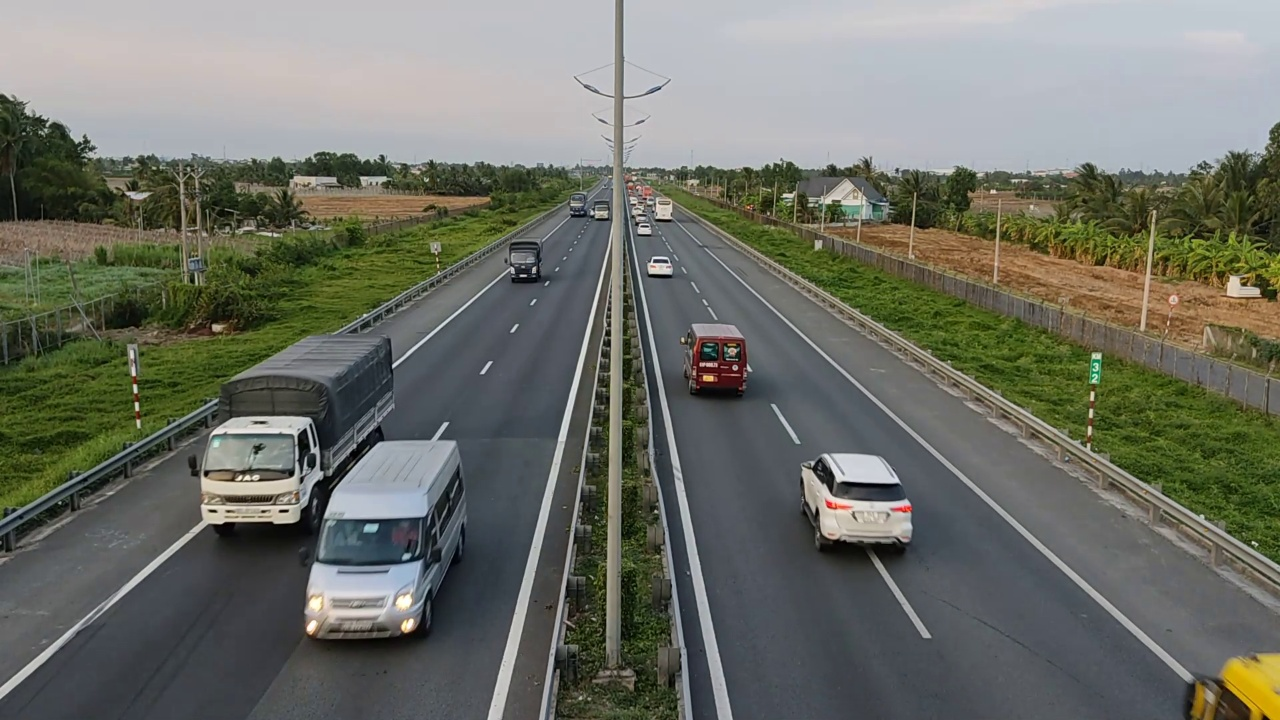car: (297, 435, 470, 641), (799, 453, 914, 551), (678, 318, 750, 402), (647, 255, 675, 277)
truck: (191, 332, 396, 535)
